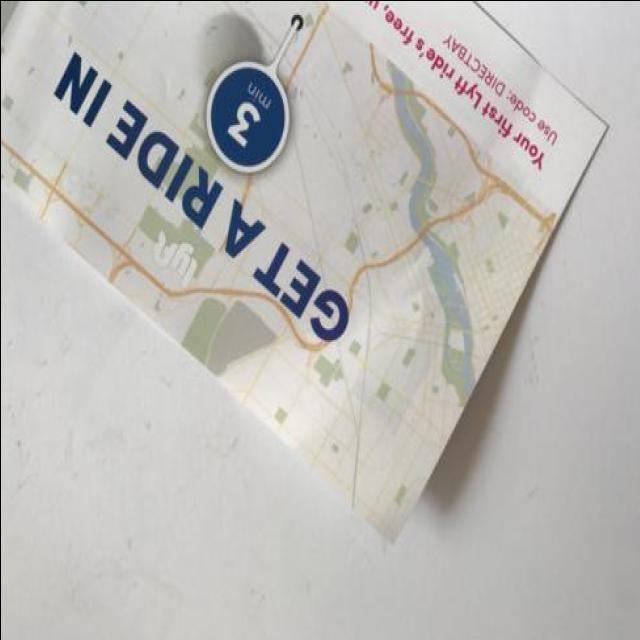kertas: (0, 0, 608, 545)
